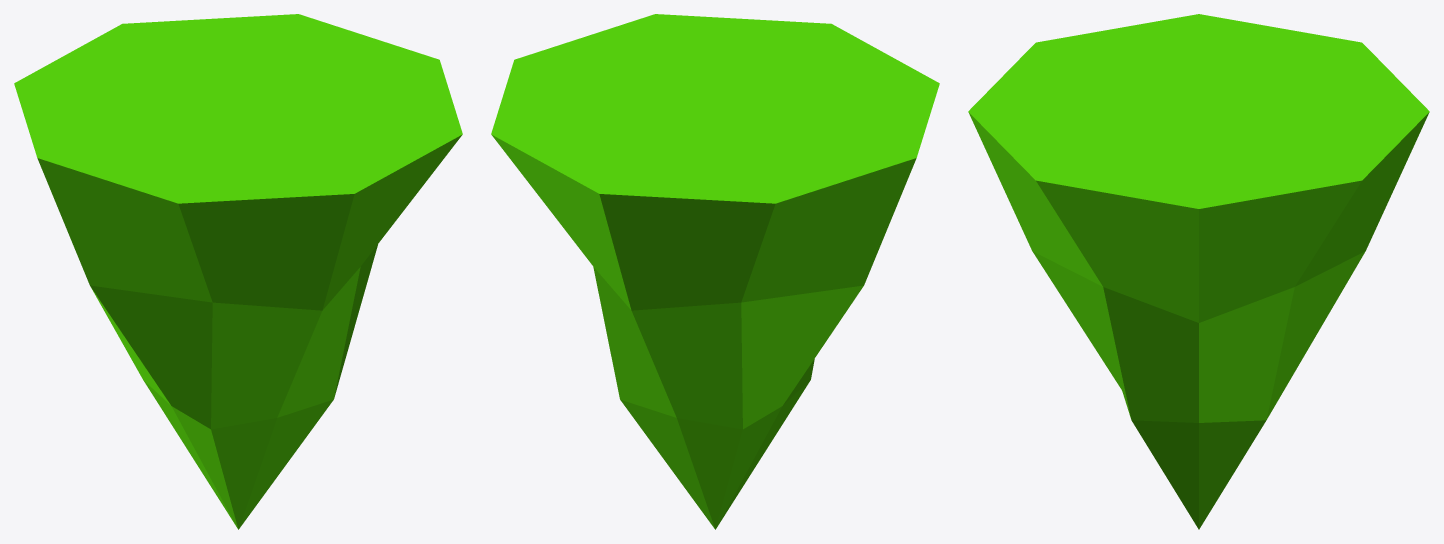
File: Player_Indicator.fbx
The picture shows the model from 3 angles, left to right: view 1: azimuth 30°, elevation 25°; view 2: azimuth 150°, elevation 25°; view 3: azimuth 270°, elevation 25°; orthographic projection.
Visible parts, largest first — view 1: Player_Indicator; view 2: Player_Indicator; view 3: Player_Indicator.
Boxes of the visible parts, x1,y1,x2,y2 form: Player_Indicator: (14, 14, 462, 529); Player_Indicator: (491, 14, 939, 529); Player_Indicator: (968, 14, 1429, 529).
Size of the model in its own units: 2.8 by 2.8 by 2.8.
